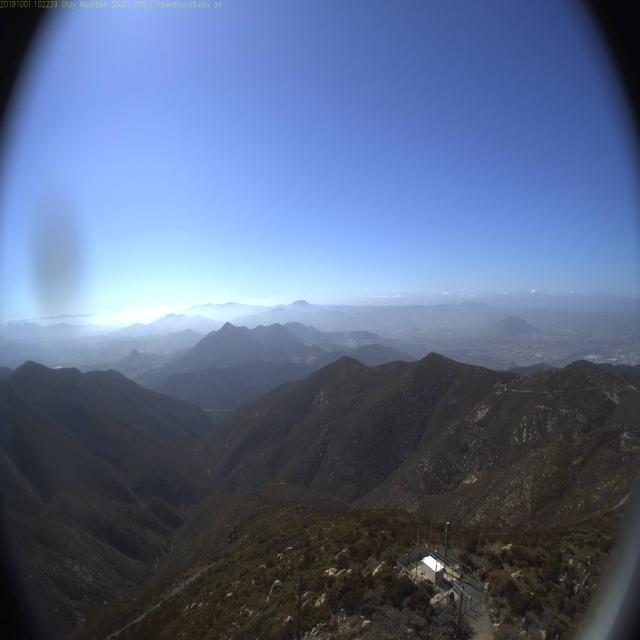smoke: (334, 323, 360, 352)
